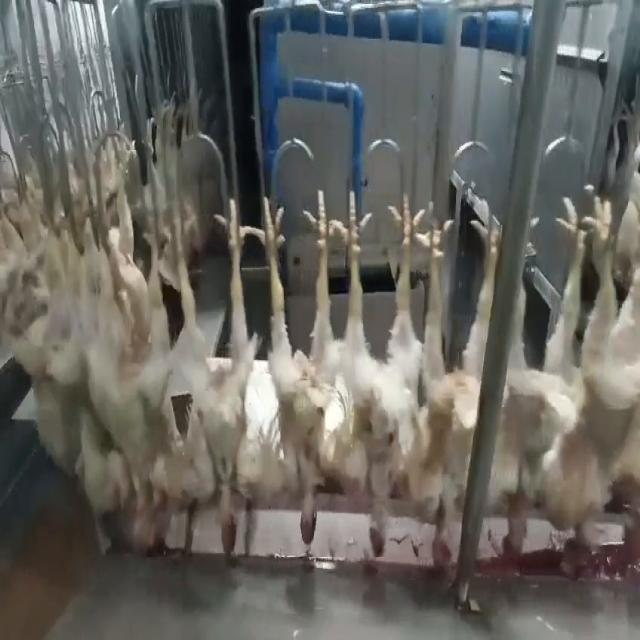chicken: (334, 173, 442, 561), (406, 204, 501, 574), (161, 198, 252, 570), (498, 194, 588, 567), (556, 192, 639, 572), (251, 179, 337, 543), (92, 159, 156, 552)
